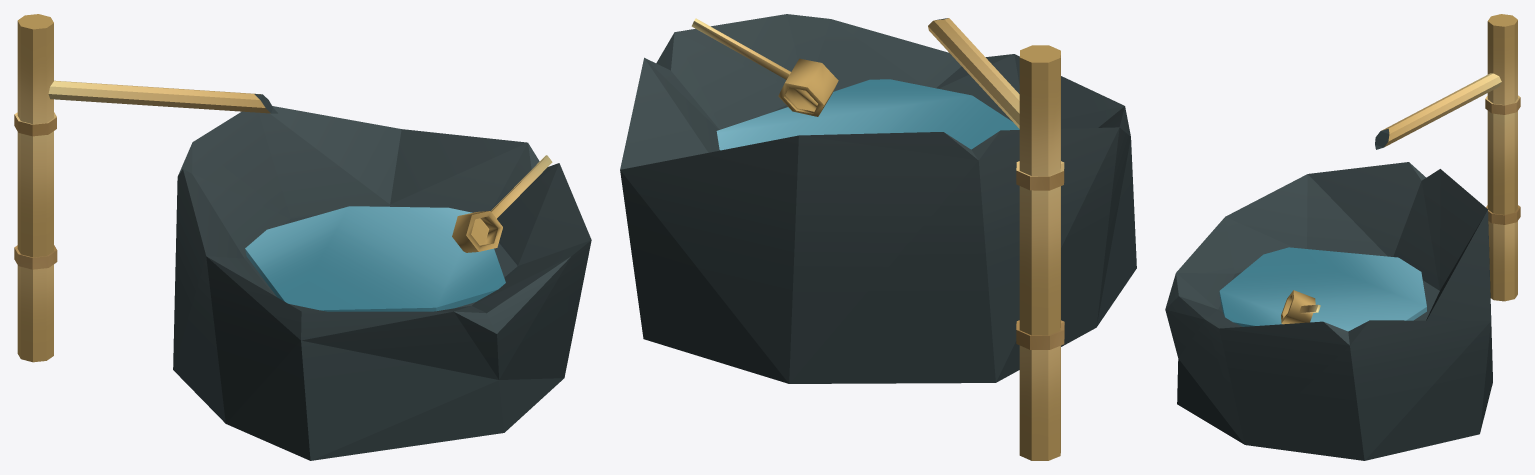
The model's file is WaterBasin.fbx.
3 views of the same model, side by side, from view 1: azimuth 30°, elevation 25°; view 2: azimuth 150°, elevation 25°; view 3: azimuth 270°, elevation 25° (orthographic). The views are drawn at different scales.
Visible parts, largest first — view 1: WaterBasin_Stone, WaterBasin_Water, WaterBasin_BambooOutlet, WaterBasin_Ladle; view 2: WaterBasin_Stone, WaterBasin_BambooOutlet, WaterBasin_Water, WaterBasin_Ladle; view 3: WaterBasin_Stone, WaterBasin_Water, WaterBasin_BambooOutlet, WaterBasin_Ladle.
Boxes of the visible parts, <box> form: WaterBasin_Stone: <box>173,106,591,460</box>; WaterBasin_Water: <box>245,206,505,311</box>; WaterBasin_BambooOutlet: <box>14,14,277,362</box>; WaterBasin_Ladle: <box>452,155,552,252</box>; WaterBasin_Stone: <box>620,14,1136,383</box>; WaterBasin_BambooOutlet: <box>928,18,1064,460</box>; WaterBasin_Water: <box>716,79,1019,150</box>; WaterBasin_Ladle: <box>691,18,838,116</box>; WaterBasin_Stone: <box>1165,162,1492,460</box>; WaterBasin_Water: <box>1219,247,1426,331</box>; WaterBasin_BambooOutlet: <box>1375,14,1520,301</box>; WaterBasin_Ladle: <box>1281,290,1320,324</box>.
Bounding box in the file's own units: 1.62 × 1.18 × 1.38.
1 material, 1 textured.
